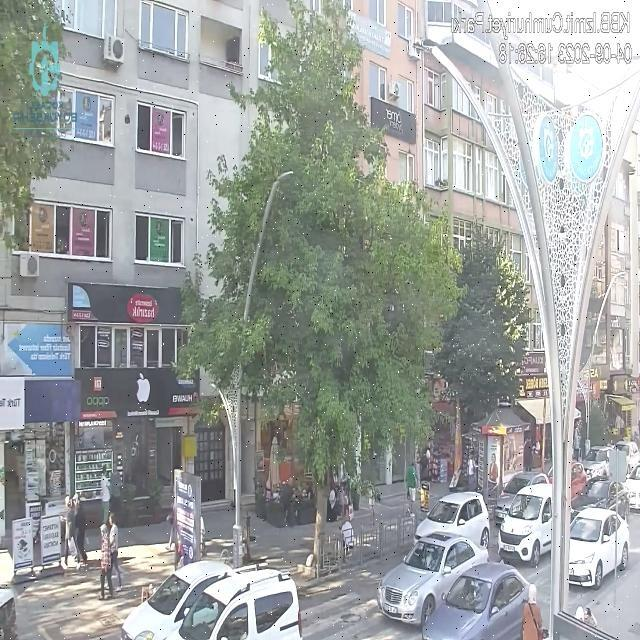Car: (376, 528, 492, 630), (115, 559, 239, 640), (165, 567, 300, 640), (418, 561, 538, 640), (567, 506, 631, 588), (416, 491, 492, 552), (496, 484, 551, 566), (572, 478, 626, 513)
